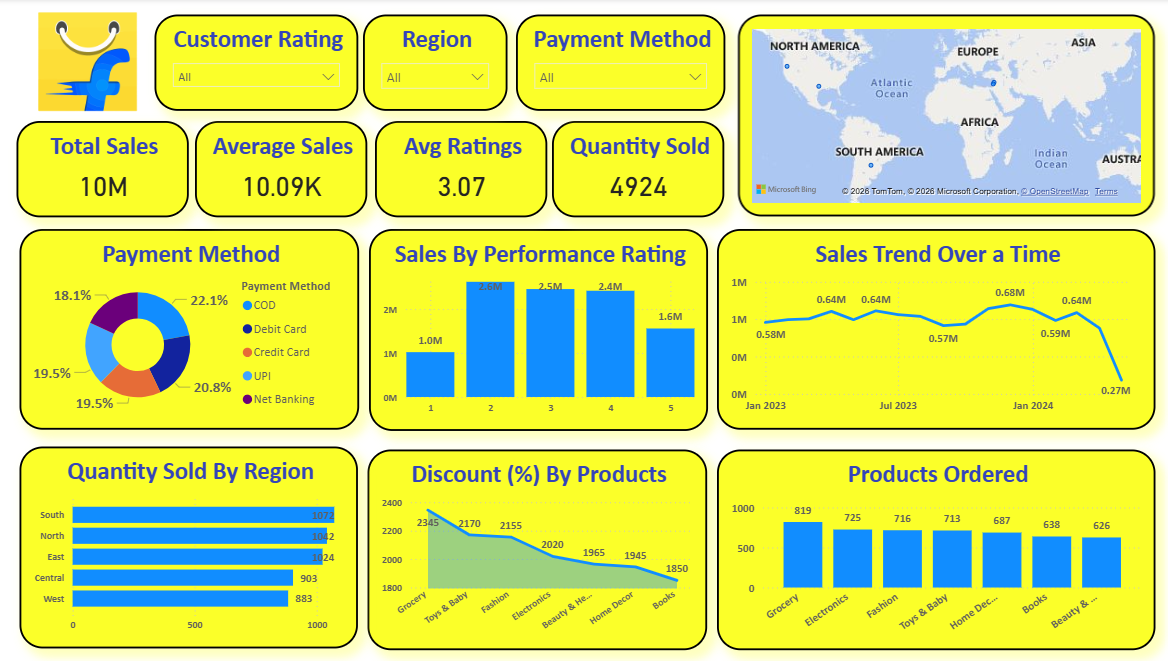

Layout of this report page (visuals, bound fields, positions):
{"tool":"powerbi","page":{"name":"Page 1","canvas":[1280,720],"ordinal":0},"visuals":[{"type":"donutChart","title":"Payment Method","fields":{"Category":["Sheet1.Payment Method"],"Y":["CountNonNull(Sheet1.Payment Method)"]},"box":[30,250,366.7,216.7],"z":0},{"type":"columnChart","title":"Sales By Performance Rating","fields":{"Category":["Sheet1.Customer Rating"],"Y":["Sum(Sheet1.Sales Amount)"]},"box":[408,250,366,218],"z":1000},{"type":"areaChart","title":"Discount (%) By Products","fields":{"Category":["Sheet1.Product Category"],"Y":["Sum(Sheet1.Discount (%))"]},"box":[406.7,486.7,366.7,216.7],"z":2000},{"type":"lineChart","title":"Sales Trend Over a Time","fields":{"Y":["Sum(Sheet1.Sales Amount)"],"Category":["Sheet1.Order Date.Variation.Date Hierarchy.Year","Sheet1.Order Date.Variation.Date Hierarchy.Quarter","Sheet1.Order Date.Variation.Date Hierarchy.Month"]},"box":[783.3,250,473.3,216.7],"z":3000},{"type":"columnChart","title":"Products Ordered","fields":{"Category":["Sheet1.Product Category"],"Y":["Sum(Sheet1.Quantity Sold)"]},"box":[783.3,486.7,473.3,216.7],"z":4000},{"type":"barChart","title":"Quantity Sold By Region","fields":{"Category":["Sheet1.Region"],"Y":["Sum(Sheet1.Quantity Sold)"]},"box":[30.9,484.5,365.5,218.2],"z":5000},{"type":"card","title":"Total Sales","fields":{"Values":["Sum(Sheet1.Sales Amount)"]},"box":[28,132,186,104],"z":6000},{"type":"card","title":"Average Sales","fields":{"Values":["Avg(Sheet1.Sales Amount)"]},"box":[220,132,186,104],"z":7000},{"type":"card","title":"Avg Ratings","fields":{"Values":["Avg(Sheet1.Customer Rating)"]},"box":[414,132,186,104],"z":8000},{"type":"card","title":"Quantity Sold","fields":{"Values":["Sum(Sheet1.Quantity Sold)"]},"box":[606,132,186,104],"z":9000},{"type":"slicer","title":"Customer Rating","fields":{"Values":["Sheet1.Customer Rating"]},"box":[176,18,220,104],"z":10000},{"type":"slicer","title":"Region","fields":{"Values":["Sheet1.Region"]},"box":[402,18,156,104],"z":11000},{"type":"slicer","title":"Payment Method","fields":{"Values":["Sheet1.Payment Method"]},"box":[566,18,226,104],"z":12000},{"type":"map","fields":{"Category":["Sheet1.Region"]},"box":[806,18,450,218],"z":12001},{"type":"image","box":[30,14,146,108],"z":12002}]}

Visuals, with their boxes in screenshot pixels (x1, y1, x2, y2), scaled from the page's 1280x720 canvas onto the 1168x661 screenshot:
"Payment Method" donutChart: 27:230:362:428
"Sales By Performance Rating" columnChart: 372:230:706:430
"Discount (%) By Products" areaChart: 371:447:706:646
"Sales Trend Over a Time" lineChart: 715:230:1147:428
"Products Ordered" columnChart: 715:447:1147:646
"Quantity Sold By Region" barChart: 28:445:362:645
"Total Sales" card: 26:121:195:217
"Average Sales" card: 201:121:370:217
"Avg Ratings" card: 378:121:548:217
"Quantity Sold" card: 553:121:723:217
"Customer Rating" slicer: 161:17:361:112
"Region" slicer: 367:17:509:112
"Payment Method" slicer: 516:17:723:112
map - Sheet1.Region: 735:17:1146:217
image: 27:13:161:112
